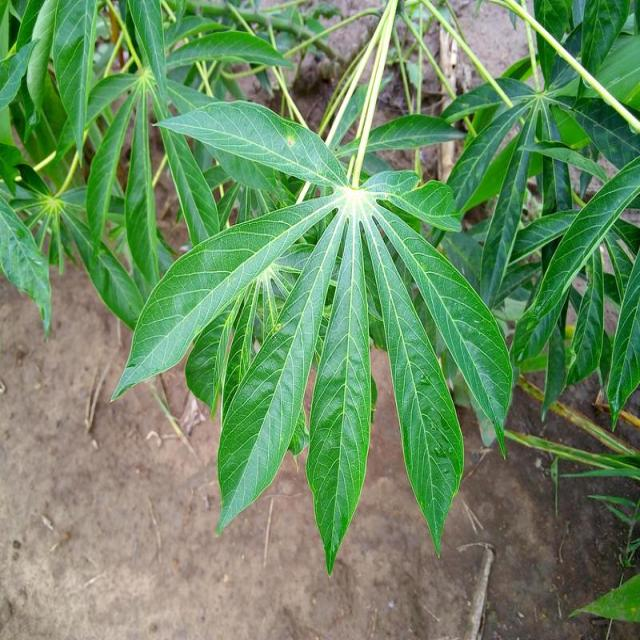cassava leaf: (110, 85, 514, 575)
